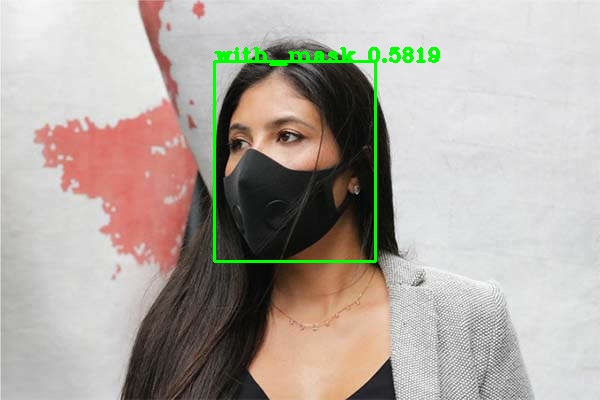with_mask: (204, 66, 370, 274)
